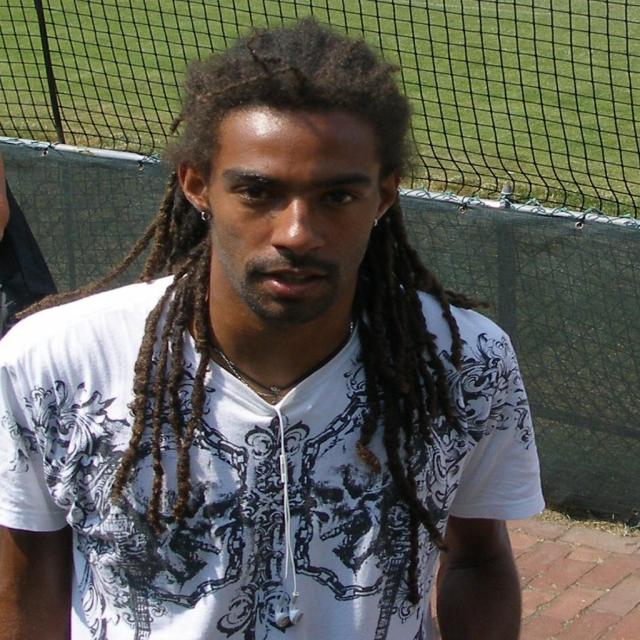nomask: (211, 107, 380, 323)
